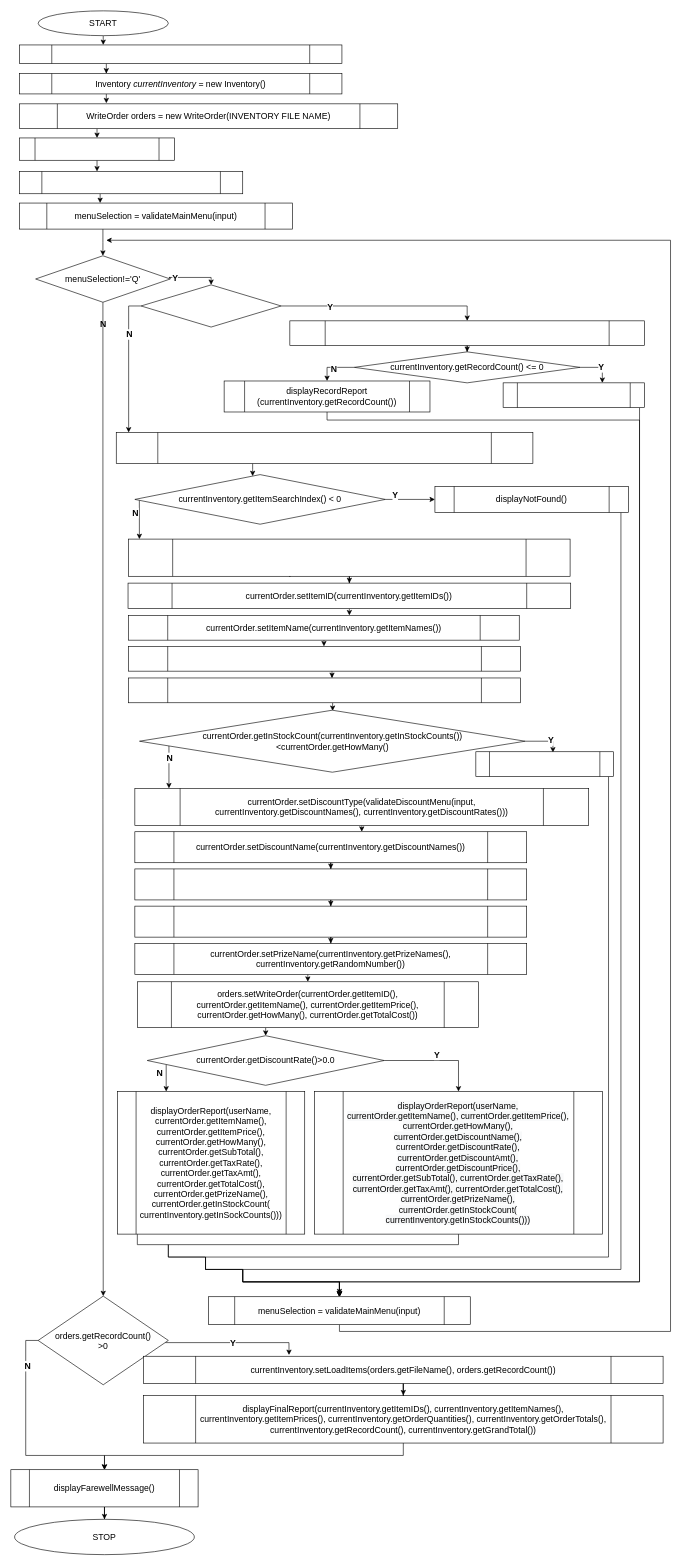
Some shapes in this 686 by 1566 pixel diagram are drawn without their labels. The shapes that lost their labels are listed below. From the top down, each one's centre as x and y in pixels, then its label:
pixel 180 54: Order currentOrder = new Order()
pixel 97 148: displayWelcomeBanner()
pixel 131 182: userName = getUserName(input)
pixel 210 305: menuSelection == 'A'
pixel 466 333: currentInventory.setLoadItems(getFileName(input))
pixel 573 395: displayNotOpen()
pixel 324 447: currentInventory.setSearchIndex(validateSearchValue(input)
pixel 349 557: currentOrder.setLastItemSelectedIndex(currentInventory.getItemSearchIndex())
pixel 324 658: currentOrder.setItemPrice(currentInventory.getItemPrices())
pixel 324 690: currentOrder.setHowMany(validateHowMany(input))
pixel 544 764: displayOutOfStock()
pixel 330 884: currentOrder.setDiscountRate(currentInventory.getDiscountRates())
pixel 330 921: currentOrder.setDecreaseInStock(currentInventory)
